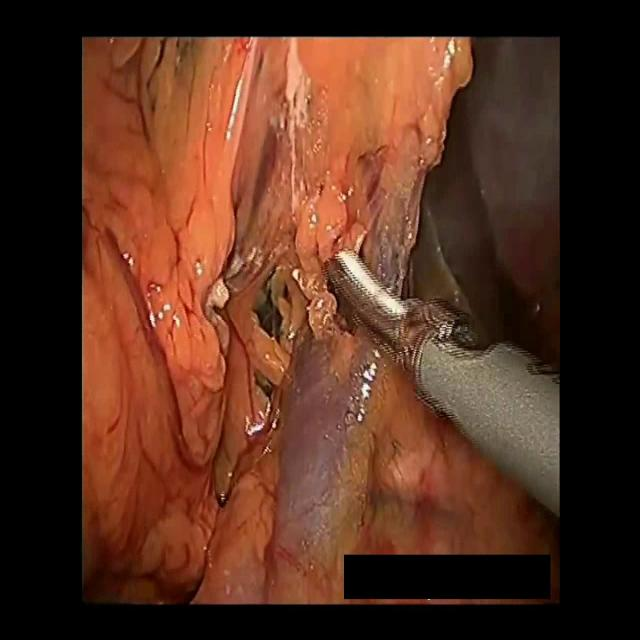surgical-area: (80, 36, 561, 609)
surgical-tool: (322, 246, 562, 519)
